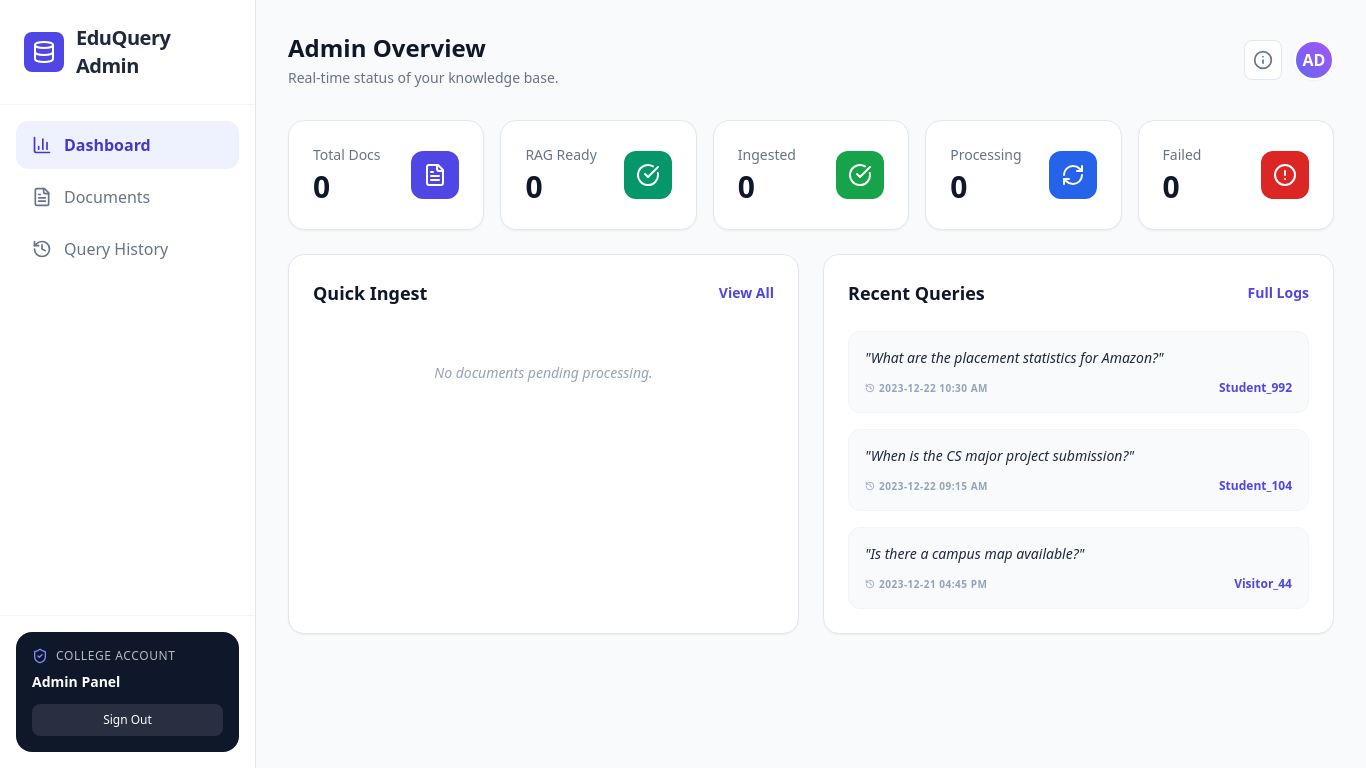
Scenario: Admin Dashboard › verifies ingest button functionality and status change
Note: Switch to documents tab
Click the button "Documents" at {"x": 128, "y": 197}, box [16,173,239,221]
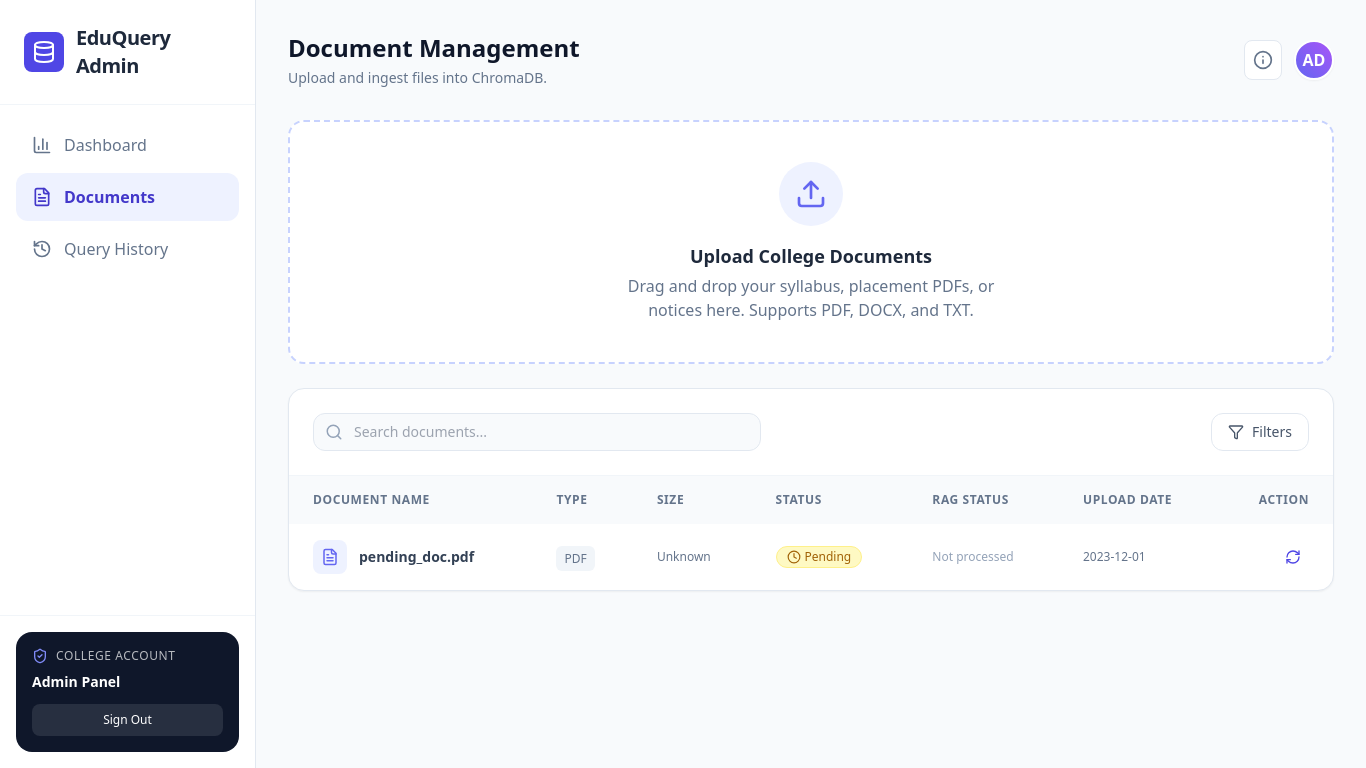
Result: the text "Pending" is shown at [776,546,862,568]
Note: Click the ingest button
Click the button with class "lucide-refresh-cw" at {"x": 1293, "y": 557}, box [1277,541,1309,573]
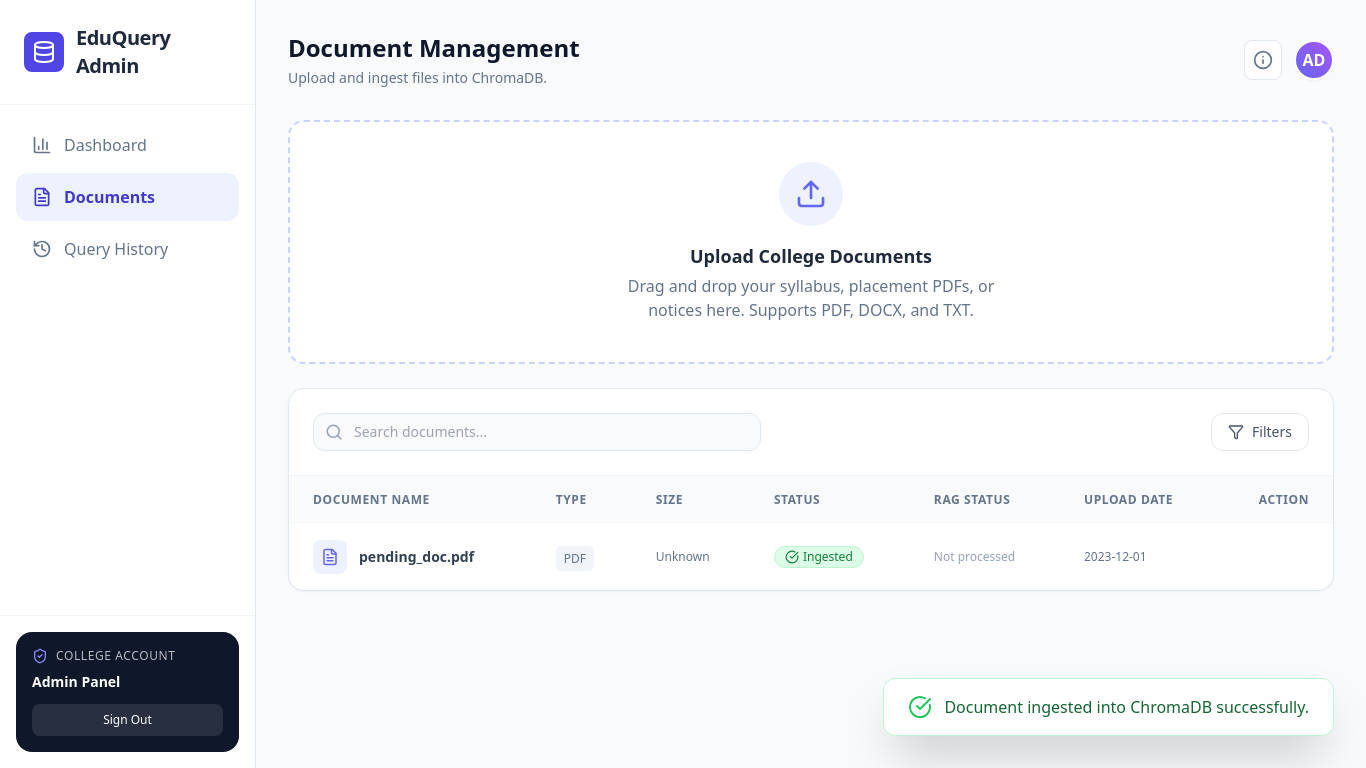
Result: the text "Ingested" is shown at [774,546,864,568]
